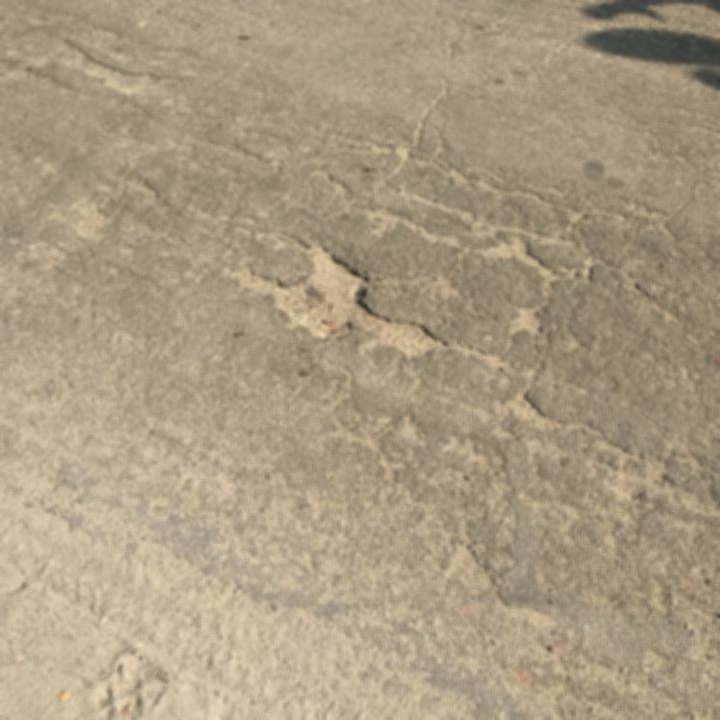pothole: (227, 239, 443, 360)
